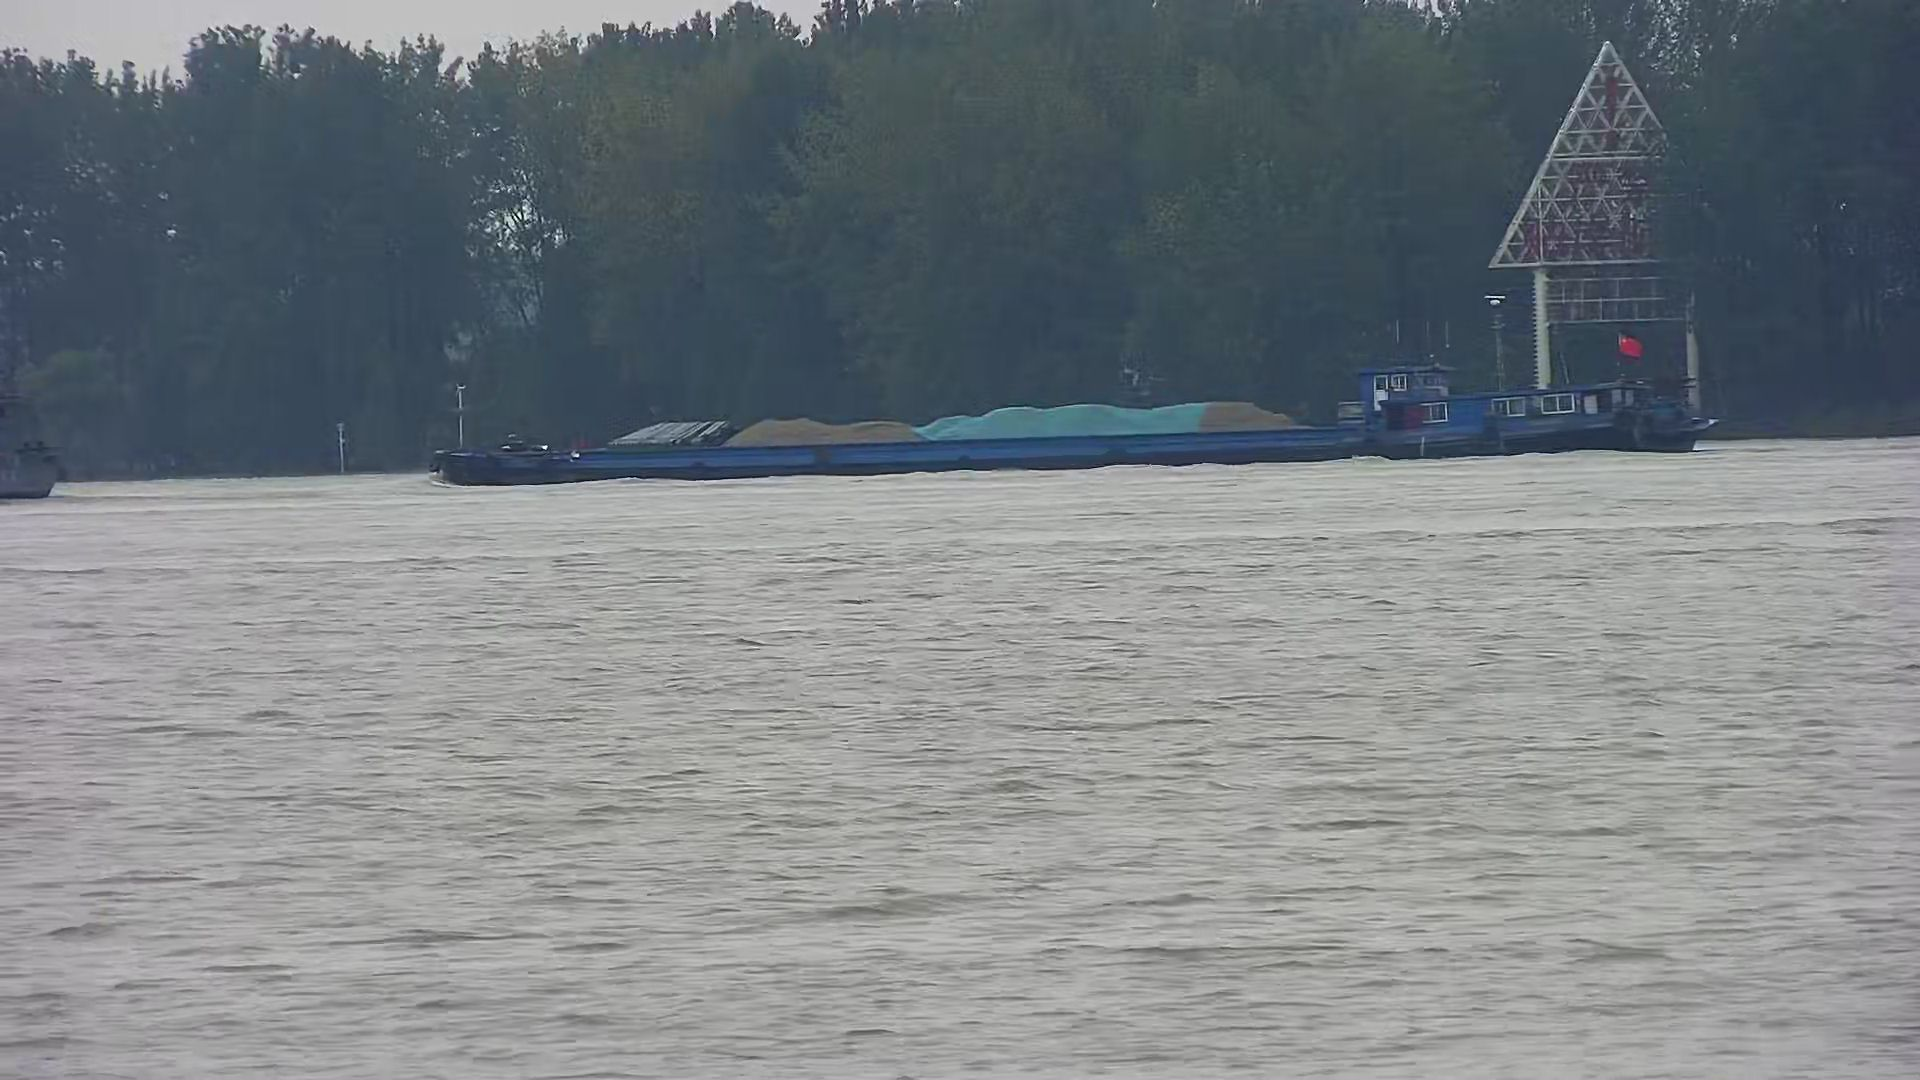ship: (423, 297, 1717, 487), (1, 382, 67, 502)
